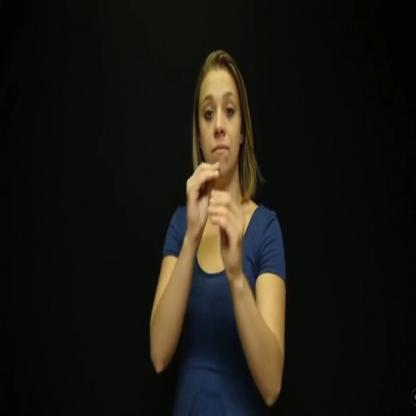Fix: (171, 137, 251, 290)
